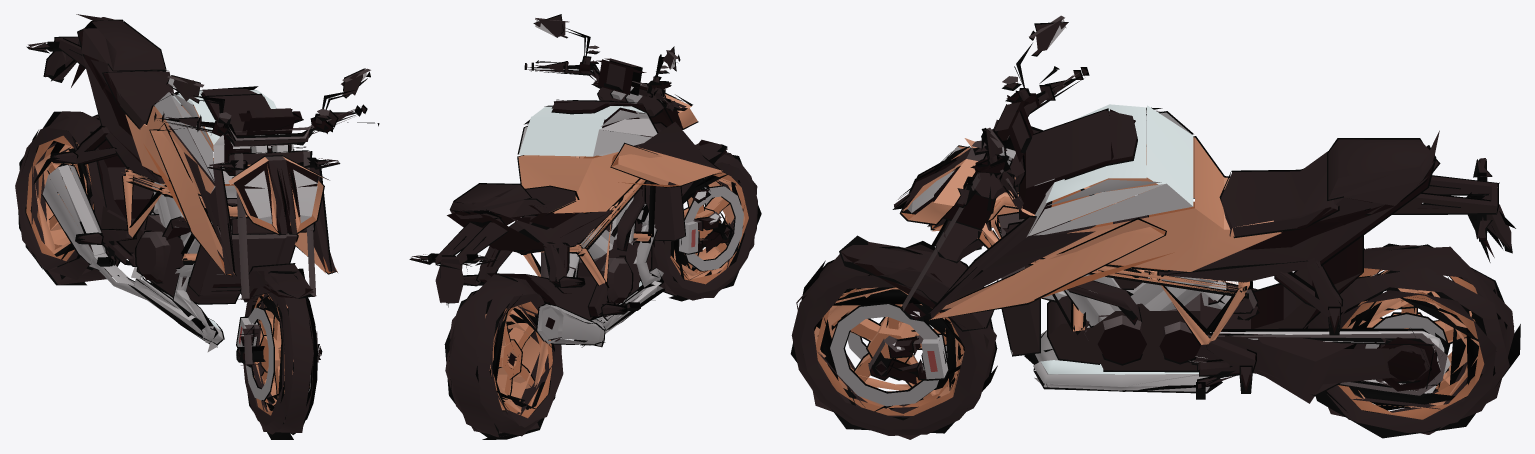
Rendered from superDuke.glb.
3 renders of one model, left to right at view 1: azimuth 30°, elevation 25°; view 2: azimuth 150°, elevation 25°; view 3: azimuth 270°, elevation 25°, orthographic. The views are drawn at different scales.
Visible parts, largest first — view 1: Object_6; view 2: Object_6; view 3: Object_6.
Boxes of the visible parts, x1,y1,x2,y2 form: Object_6: (15,14,379,439); Object_6: (409,14,761,439); Object_6: (790,15,1520,439).
Bounding box in the file's own units: 0.8272 × 1.25 × 2.1.
2 materials, 1 textured.
